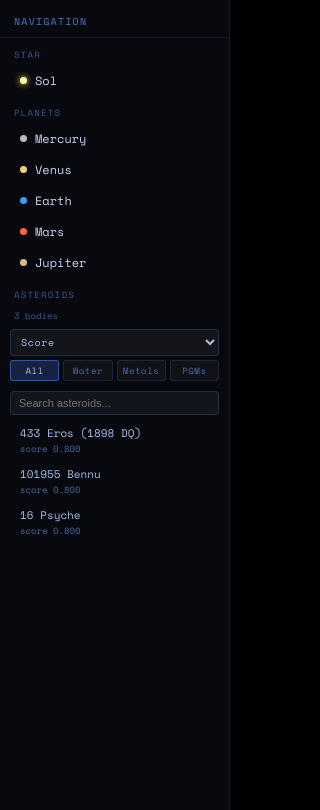
Test: NavigationSidebar › resource filter › Water filter shows only C-type asteroids
Click the button "Water" at (88,370), box [63,360,113,381]
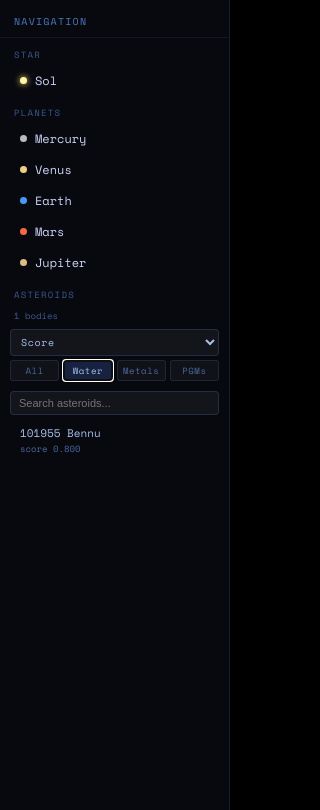
Expected: the text "101955 Bennu" is shown, [20,425,101,441]
Result: the text "433 Eros" is gone
Result: the text "Psyche" is gone
